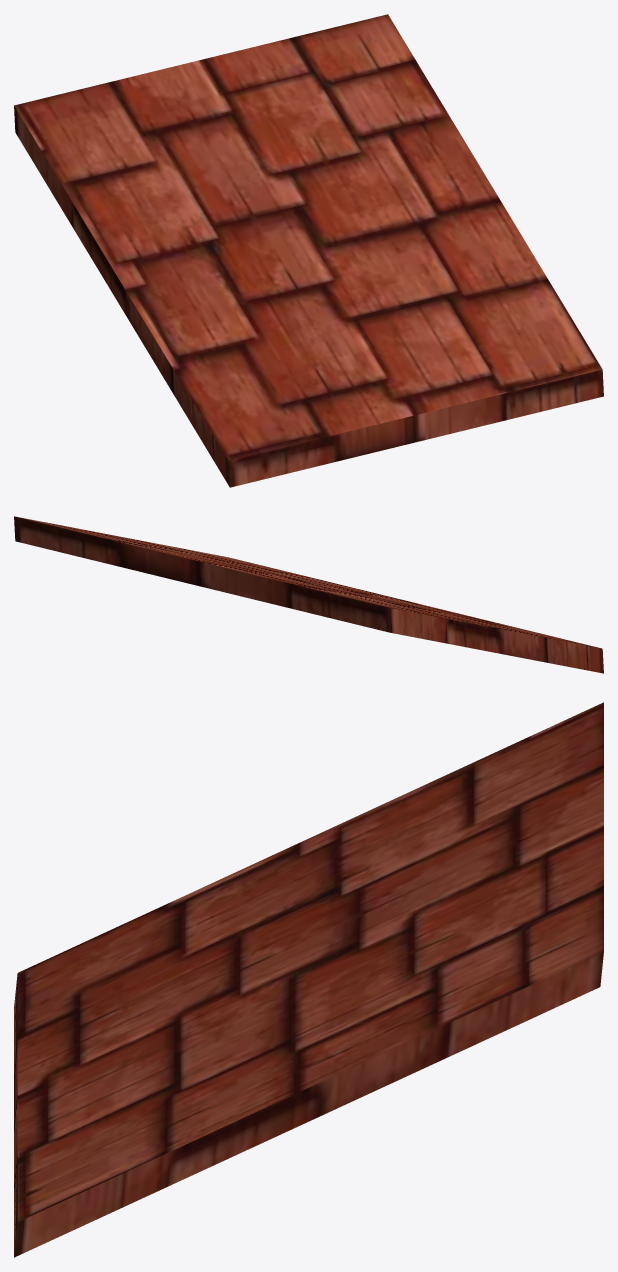
The model's file is tile roofing.glb.
3 renders of one model, top to bottom at view 1: azimuth 30°, elevation 25°; view 2: azimuth 150°, elevation 25°; view 3: azimuth 270°, elevation 25°, orthographic. The views are drawn at different scales.
Visible parts, largest first — view 1: Plane.003; view 2: Plane.003; view 3: Plane.003.
Boxes of the visible parts, box(x1,y1,x2,y2) form: Plane.003: box(14, 14, 603, 487); Plane.003: box(14, 516, 603, 673); Plane.003: box(14, 702, 603, 1257).
Bounding box in the file's own units: 1 × 0.5726 × 1.
1 material, 1 textured.
